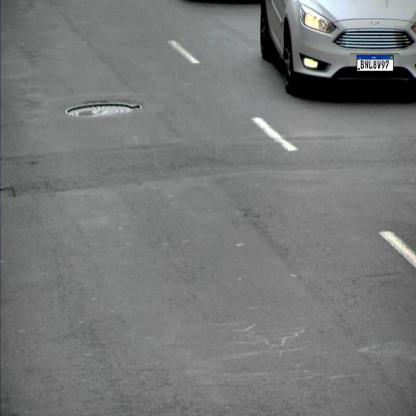PlacaM: (356, 55, 394, 71)
